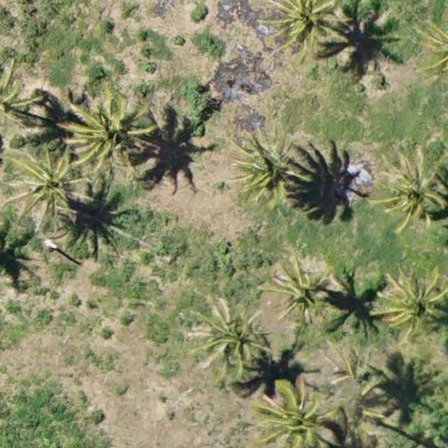palm_tree: (373, 151, 447, 226), (256, 380, 335, 448), (223, 133, 291, 206), (74, 95, 141, 166), (371, 271, 445, 335), (13, 155, 82, 223), (194, 305, 263, 372), (260, 1, 342, 54), (270, 269, 325, 325)
